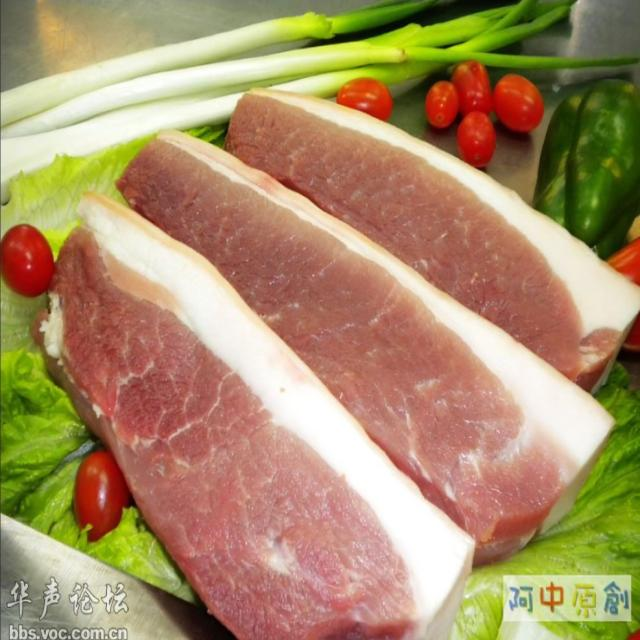pork: (109, 133, 613, 542), (31, 190, 471, 640), (222, 88, 639, 395)
